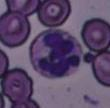N: (29, 30, 83, 78)
